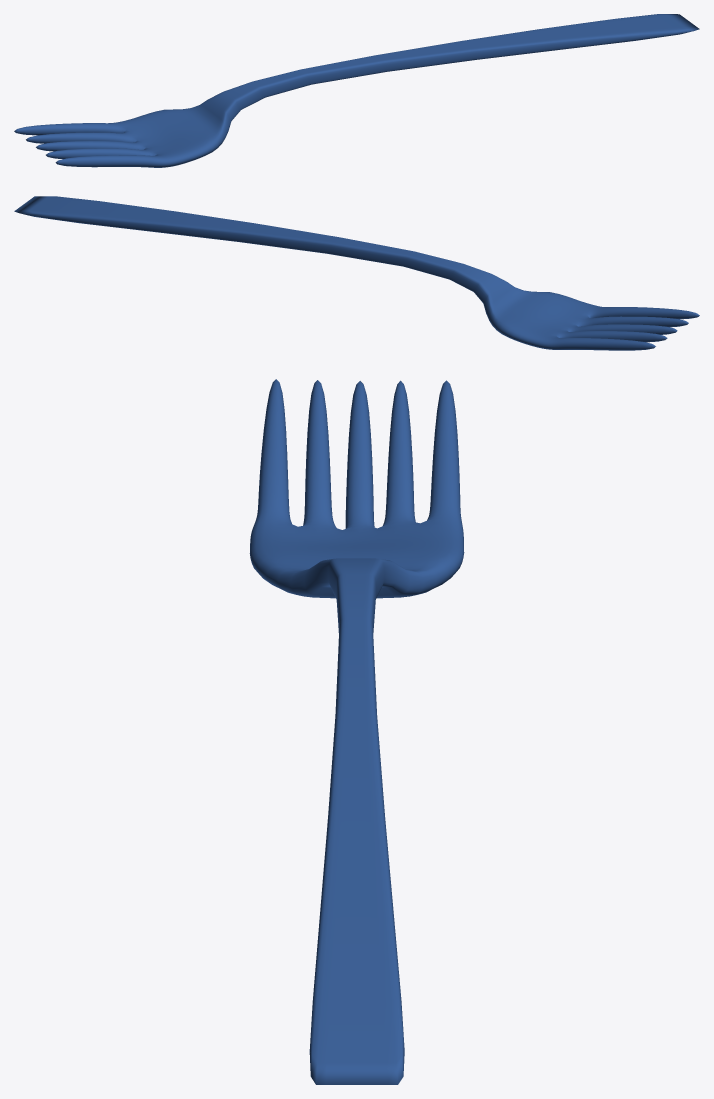
The model's file is Fourchette.fbx.
3 renders of one model, top to bottom at view 1: azimuth 30°, elevation 25°; view 2: azimuth 150°, elevation 25°; view 3: azimuth 270°, elevation 25°, orthographic. The views are drawn at different scales.
Visible parts, largest first — view 1: pPlane1; view 2: pPlane1; view 3: pPlane1.
Part boxes in pixels (x1,y1,x2,y2): pPlane1: (14, 14, 699, 167); pPlane1: (14, 196, 699, 350); pPlane1: (249, 379, 464, 1084).
Size of the model in its own units: 62.25 by 4.07 by 8.83.
